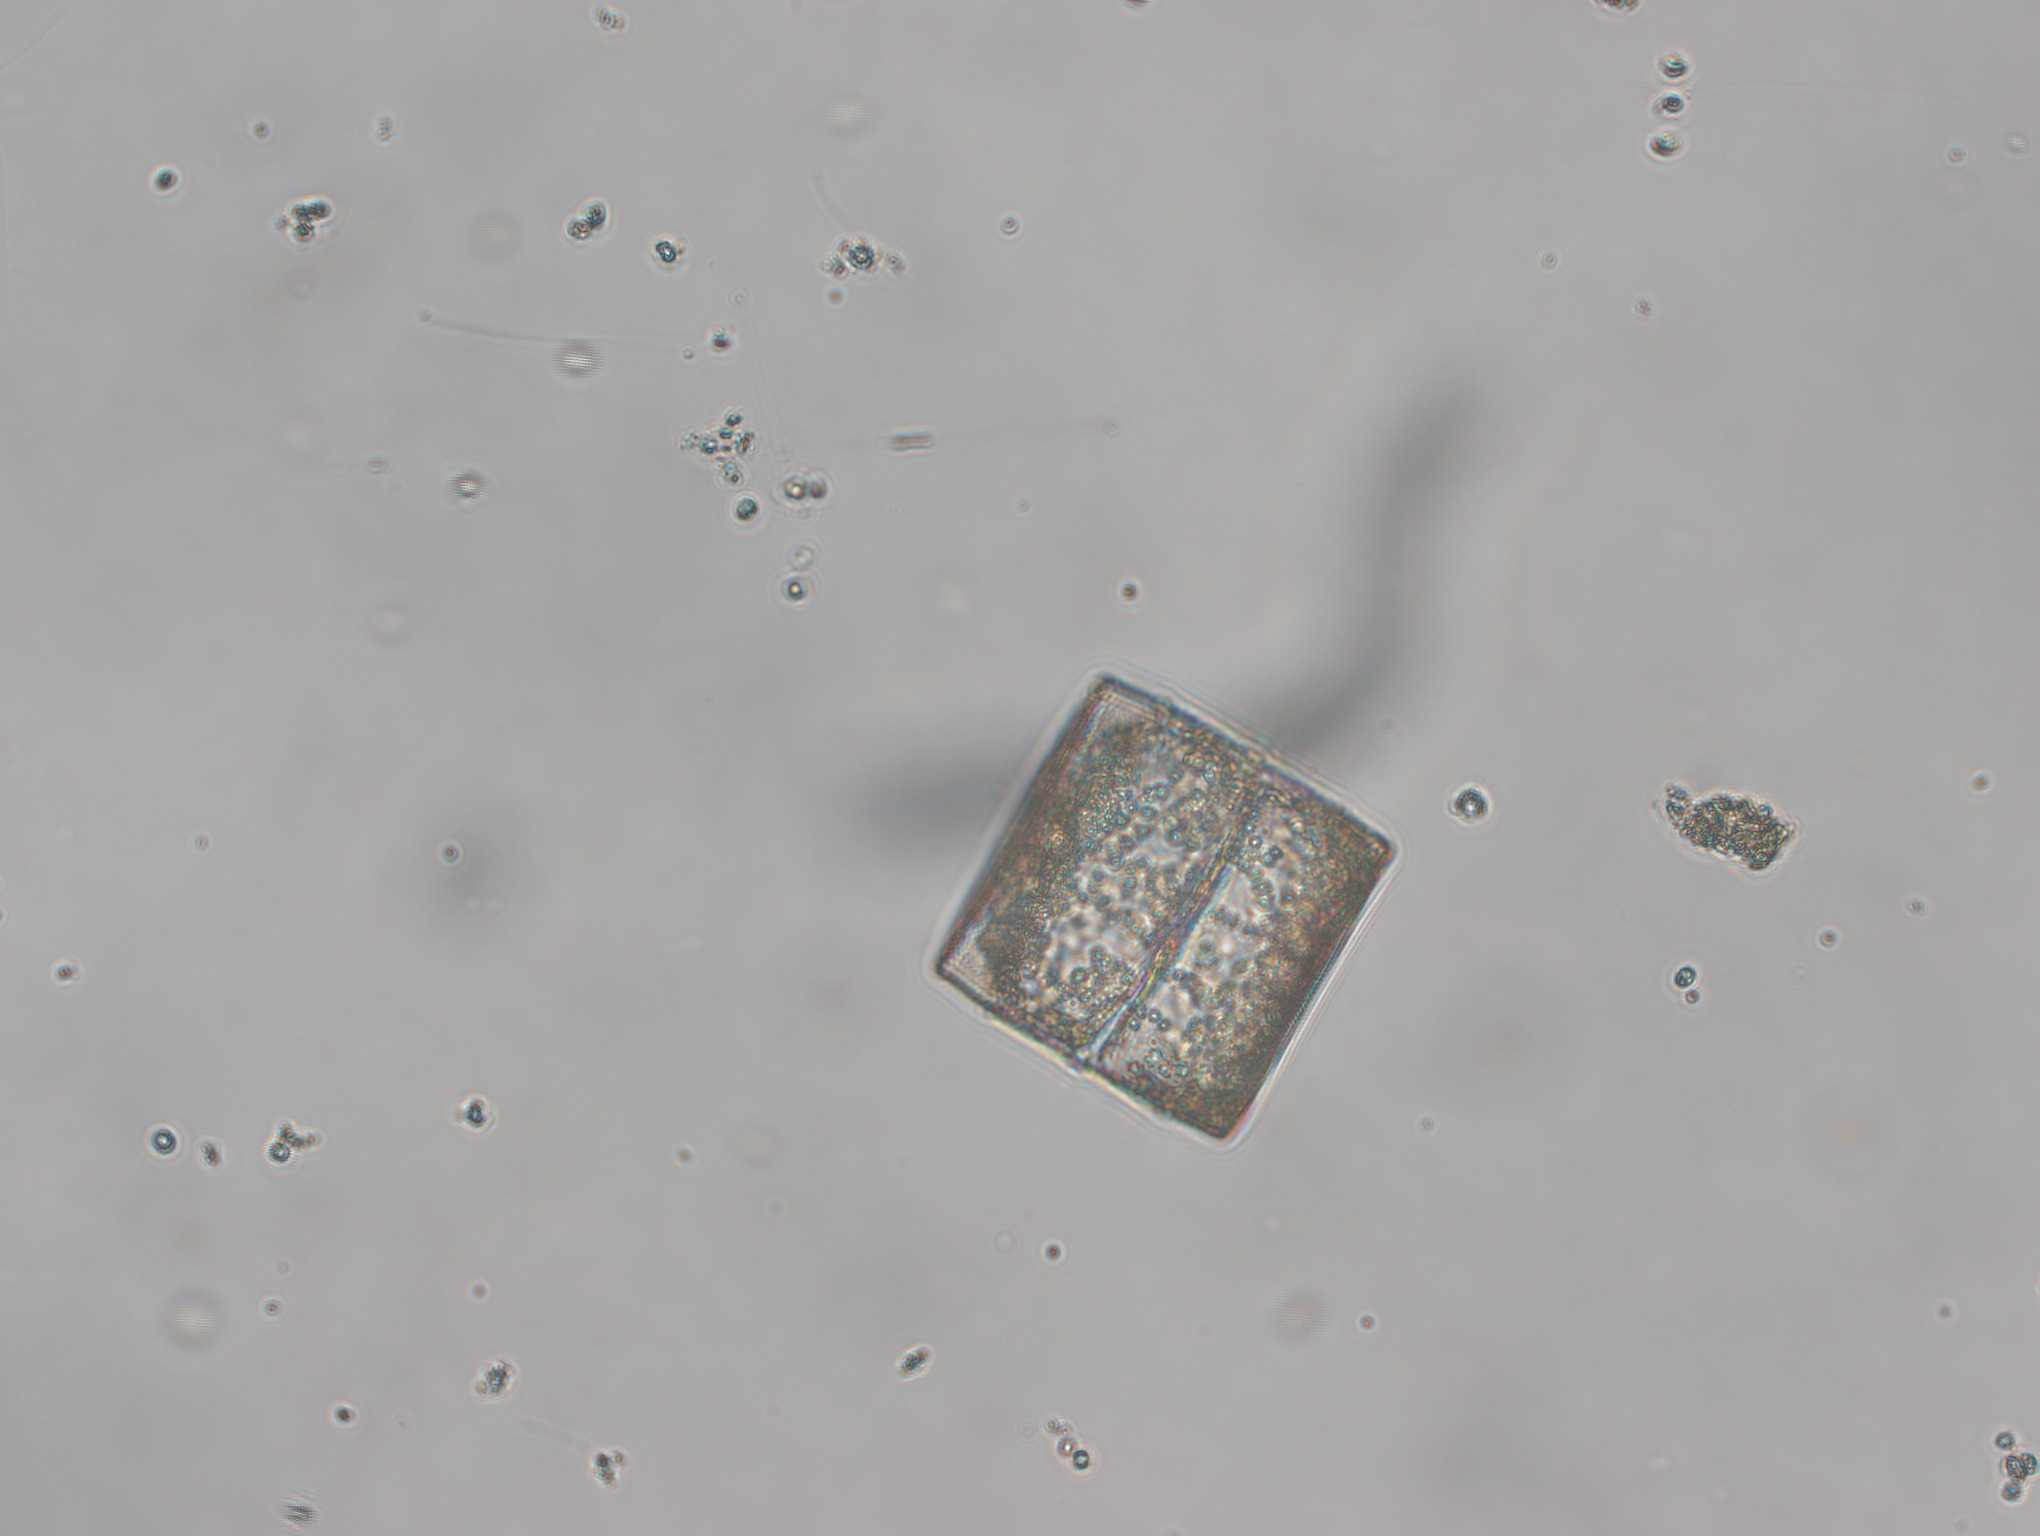coscinodiscus flank: (924, 666, 1408, 1154)
